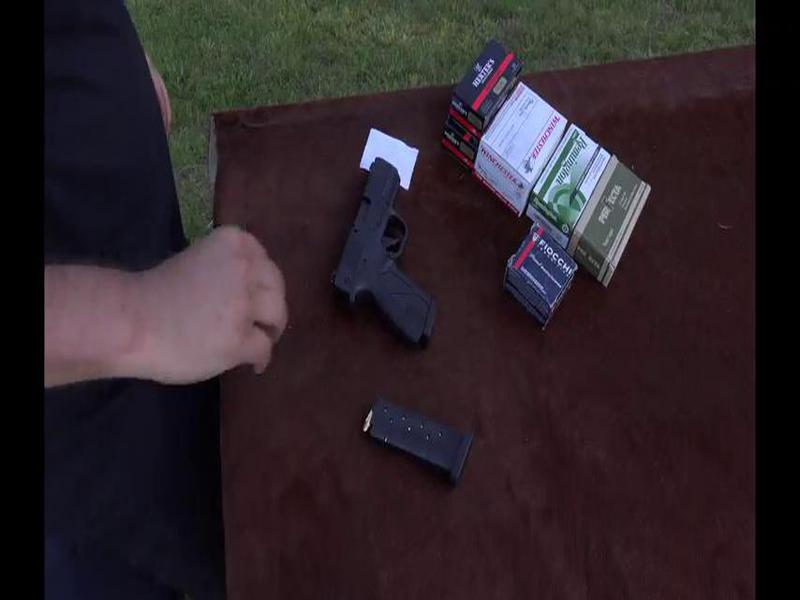Pistola: (313, 147, 453, 364)
